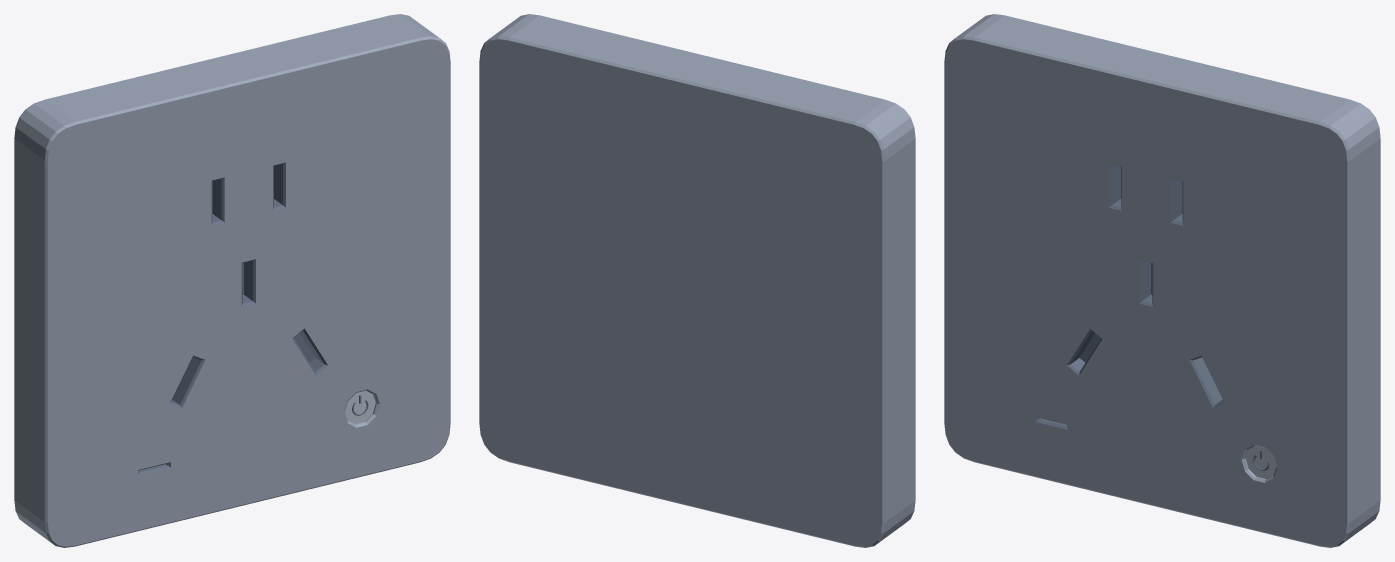
The model's file is smart-socket-86-lite.glb.
3 views of the same model, side by side, from view 1: azimuth 30°, elevation 25°; view 2: azimuth 150°, elevation 25°; view 3: azimuth 330°, elevation 25° (orthographic).
Parts seen in each view (by area): view 1: smart-socket-86; view 2: smart-socket-86; view 3: smart-socket-86.
Part boxes in pixels (left/top/right/bottom): smart-socket-86: left=14, top=14, right=450, bottom=547; smart-socket-86: left=479, top=14, right=915, bottom=547; smart-socket-86: left=944, top=14, right=1380, bottom=547.
Size of the model in its own units: 0.086 by 0.086 by 0.012.
